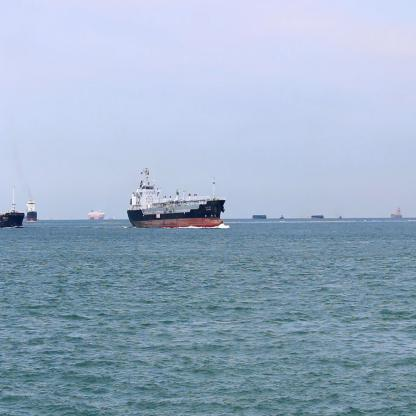Container Ship: (126, 166, 228, 230), (0, 182, 27, 230), (87, 210, 104, 222), (278, 213, 283, 220)
